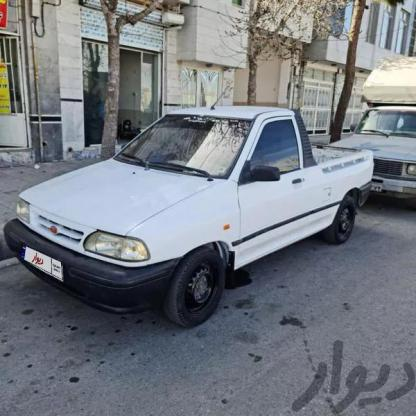Car: (0, 94, 362, 338), (333, 54, 416, 204)
